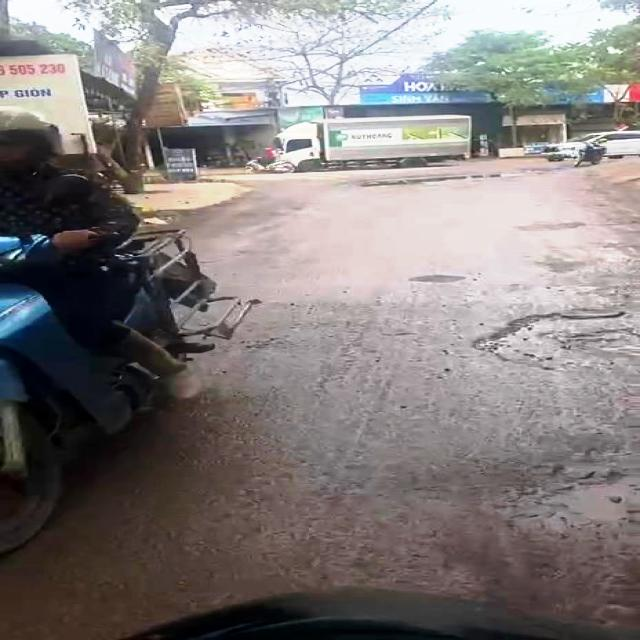pothole: (470, 313, 640, 378), (531, 469, 640, 526)
